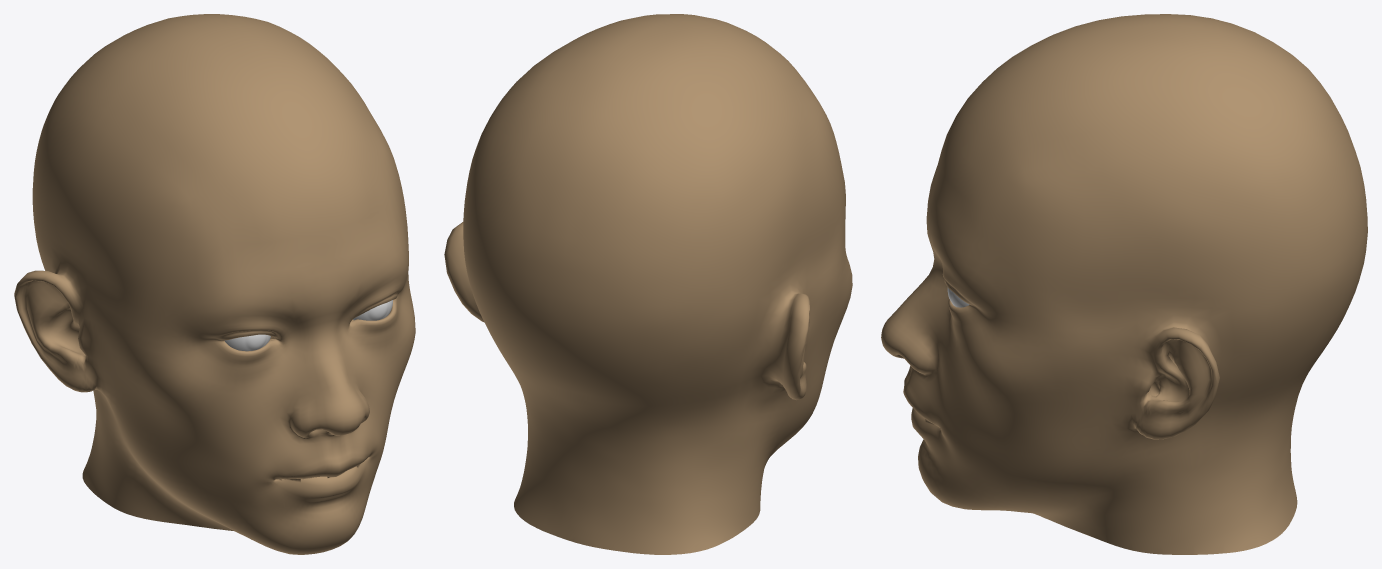
Rendered from newheadall_1_2.fbx.
3 renders of one model, left to right at view 1: azimuth 30°, elevation 25°; view 2: azimuth 150°, elevation 25°; view 3: azimuth 270°, elevation 25°, orthographic. The views are drawn at different scales.
Visible parts, largest first — view 1: HG_Body; view 2: HG_Body; view 3: HG_Body.
Boxes of the visible parts, x1,y1,x2,y2 form: HG_Body: (14, 14, 415, 554); HG_Body: (444, 14, 852, 554); HG_Body: (881, 14, 1367, 554).
Bounding box in the file's own units: 19.37 × 23.41 × 21.94.
